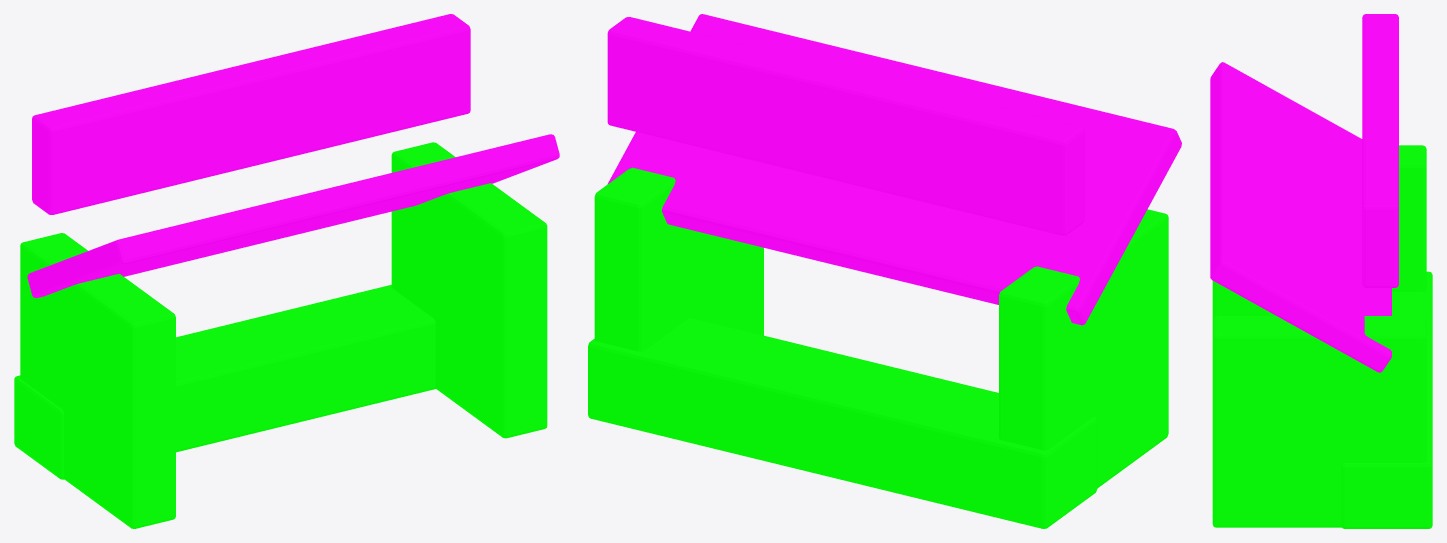
File: prueba_color.glb
3 renders of one model, left to right at view 1: azimuth 30°, elevation 25°; view 2: azimuth 150°, elevation 25°; view 3: azimuth 270°, elevation 25°, orthographic. The views are drawn at different scales.
Parts seen in each view (by area): view 1: Cube.015, Cube.012, Cube.010, Cube.011, Cube.013; view 2: Cube.012, Cube.013, Cube.015, Cube.010, Cube.011; view 3: Cube.011, Cube.013, Cube.015, Cube.012, Cube.010.
Boxes of the visible parts, box(x1,y1,x2,y2) form: Cube.015: box(32, 14, 470, 214); Cube.012: box(14, 285, 435, 479); Cube.010: box(20, 233, 175, 528); Cube.011: box(391, 142, 547, 438); Cube.013: box(27, 134, 559, 297); Cube.012: box(588, 317, 1097, 528); Cube.013: box(607, 14, 1181, 325); Cube.015: box(607, 17, 1084, 235); Cube.010: box(999, 209, 1168, 488); Cube.011: box(594, 167, 763, 351); Cube.011: box(1212, 316, 1426, 527); Cube.013: box(1210, 62, 1391, 372); Cube.015: box(1362, 14, 1398, 287); Cube.012: box(1341, 271, 1432, 528); Cube.010: box(1212, 145, 1426, 318).
Size of the model in its own units: 1.56 by 1.17 by 0.7274.
